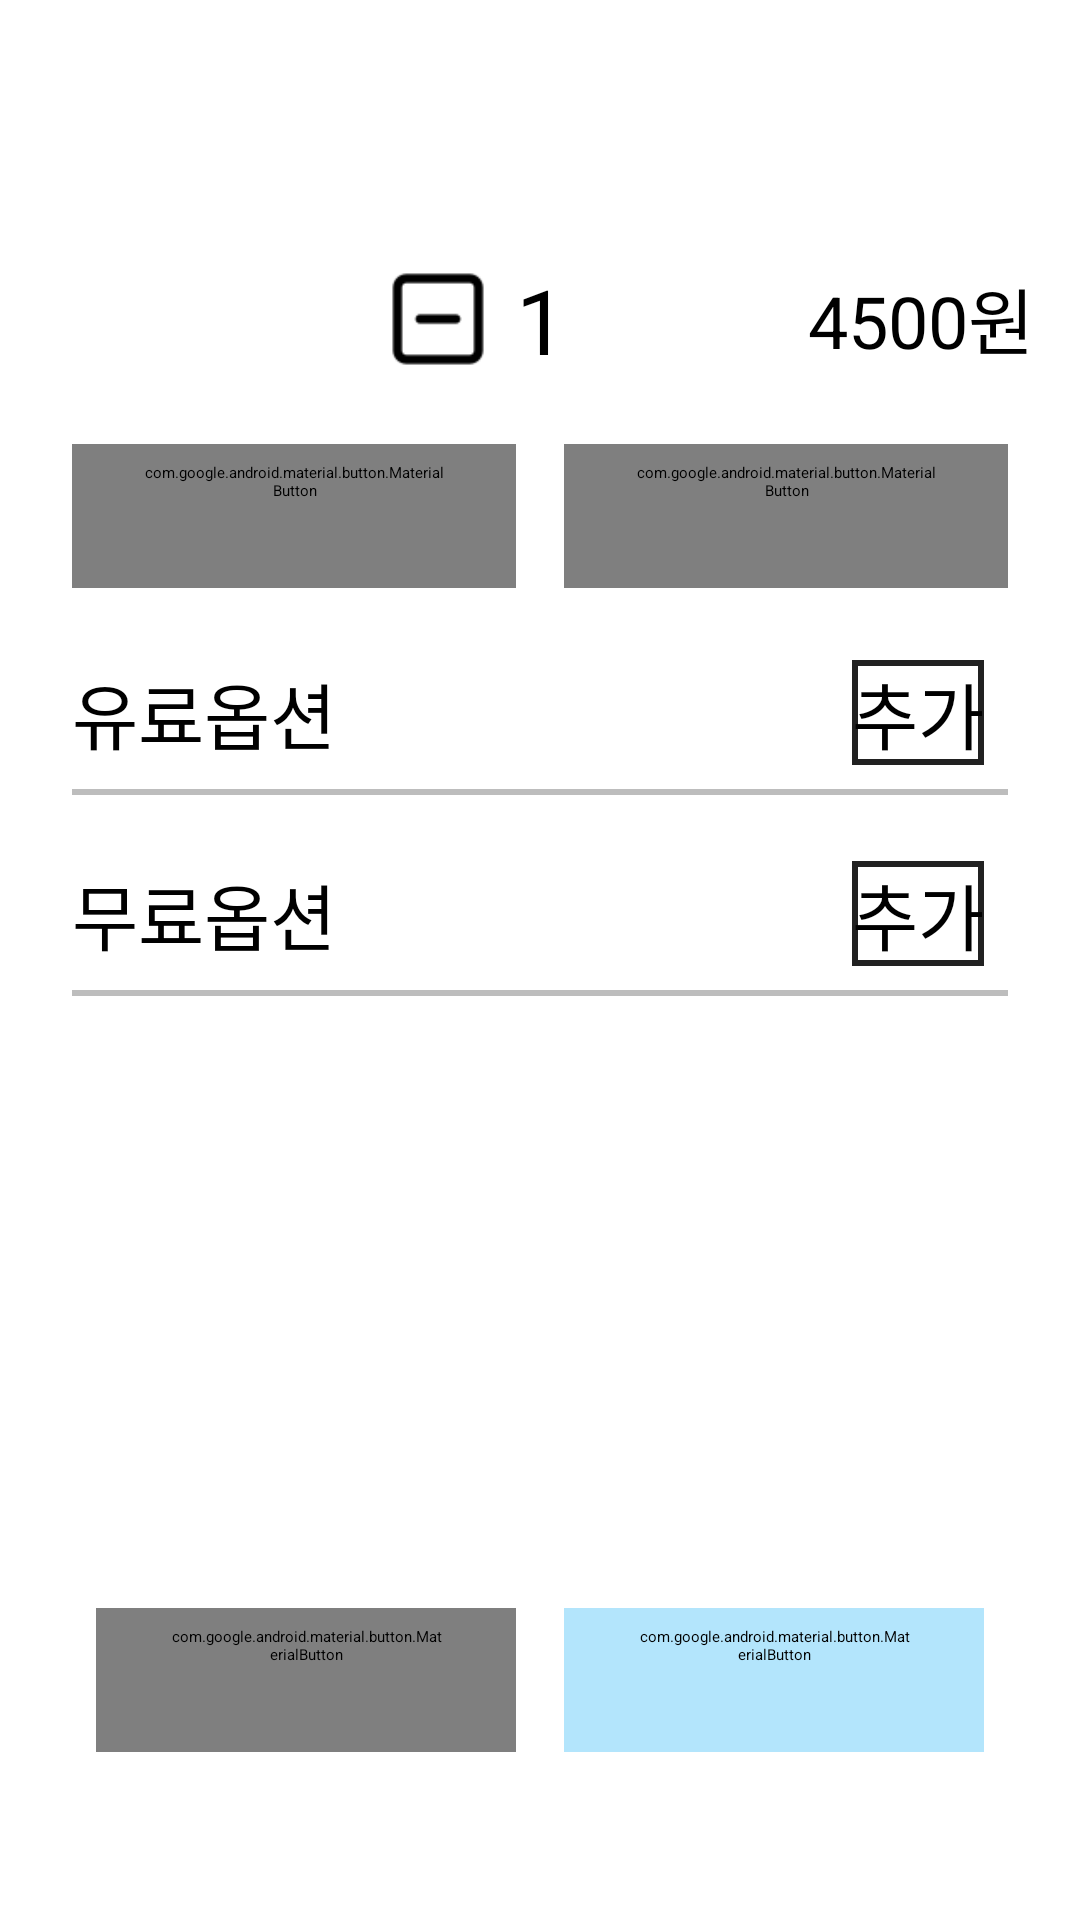

Named icons in this screenshot (1080*1920) and their bounding boxes, (x1, y1, x2, y2):
square minus: (392, 273, 484, 365)
